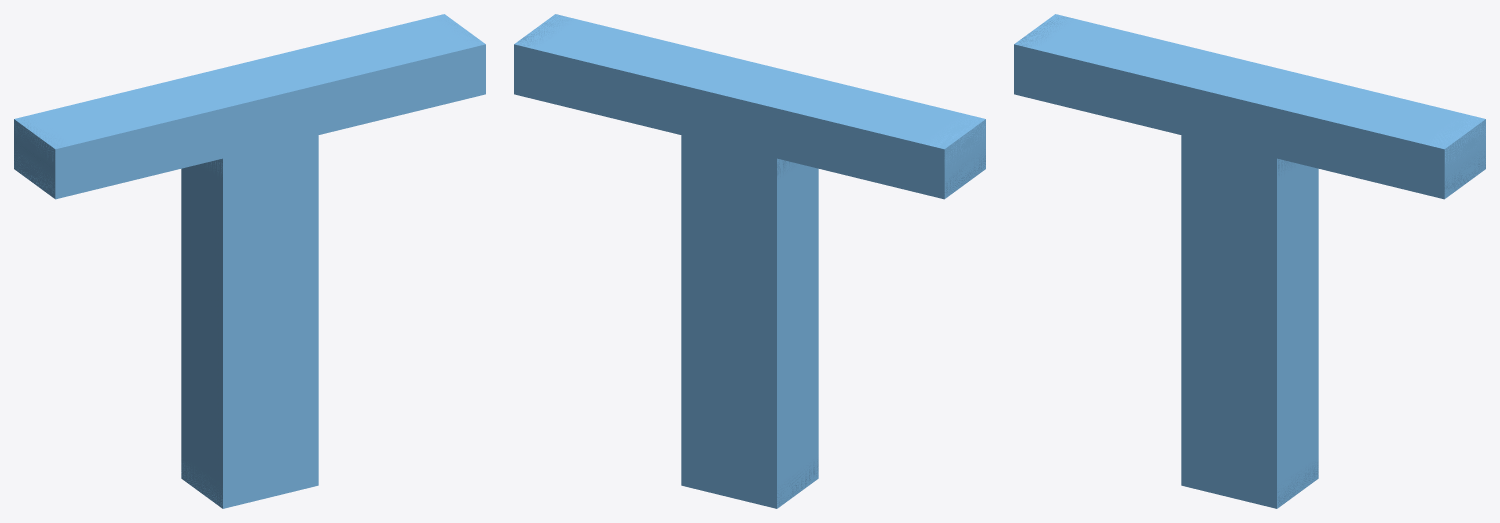
File: SVOX.glb
The picture shows the model from 3 angles, left to right: view 1: azimuth 30°, elevation 25°; view 2: azimuth 150°, elevation 25°; view 3: azimuth 330°, elevation 25°; orthographic projection.
Visible parts, largest first — view 1: __playground; view 2: __playground; view 3: __playground.
Boxes of the visible parts, <box> form: __playground: <box>14,14,485,508</box>; __playground: <box>514,14,985,508</box>; __playground: <box>1014,14,1485,508</box>.
Bounding box in the file's own units: 0.45 × 0.4 × 0.075.
